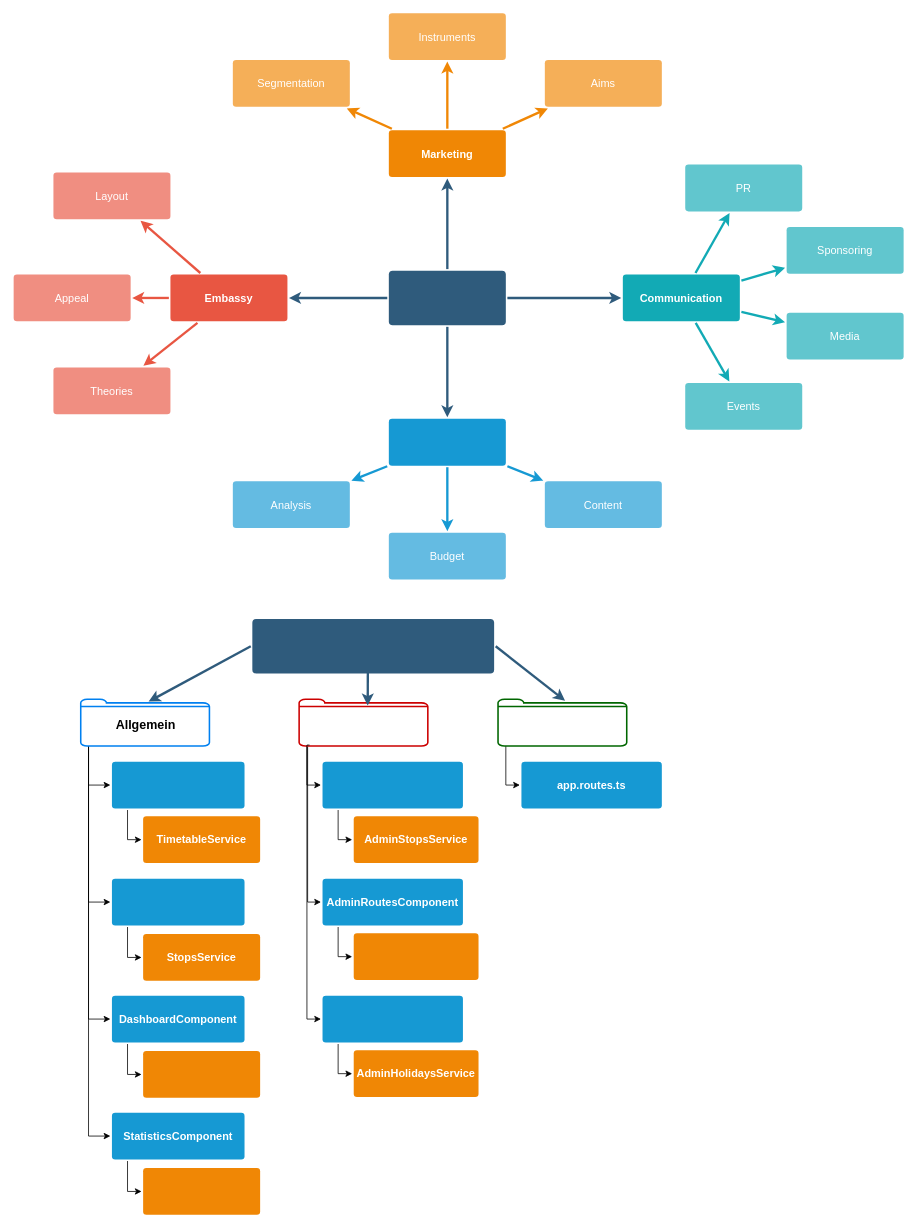
Some shapes in this 916 by 1229 pixel diagram are drawn without their labels. The box of each missing label's shape, as (x1, y1, x2, y2) in pixels:
Admin: (298, 698, 428, 746)
AdminHolidaysComponent: (322, 995, 463, 1042)
AdminRoutesService: (353, 933, 478, 980)
AdminStopsComponent: (322, 761, 463, 808)
Advertising: (388, 270, 505, 325)
AppComponent (Root-Komponente): (252, 619, 494, 673)
DashboardService: (143, 1051, 260, 1097)
Organization: (388, 418, 505, 465)
Routing: (497, 698, 627, 746)
StatisticsService: (143, 1168, 260, 1214)
StopsComponent: (112, 878, 244, 925)
TimeTableComponent: (112, 761, 244, 808)
